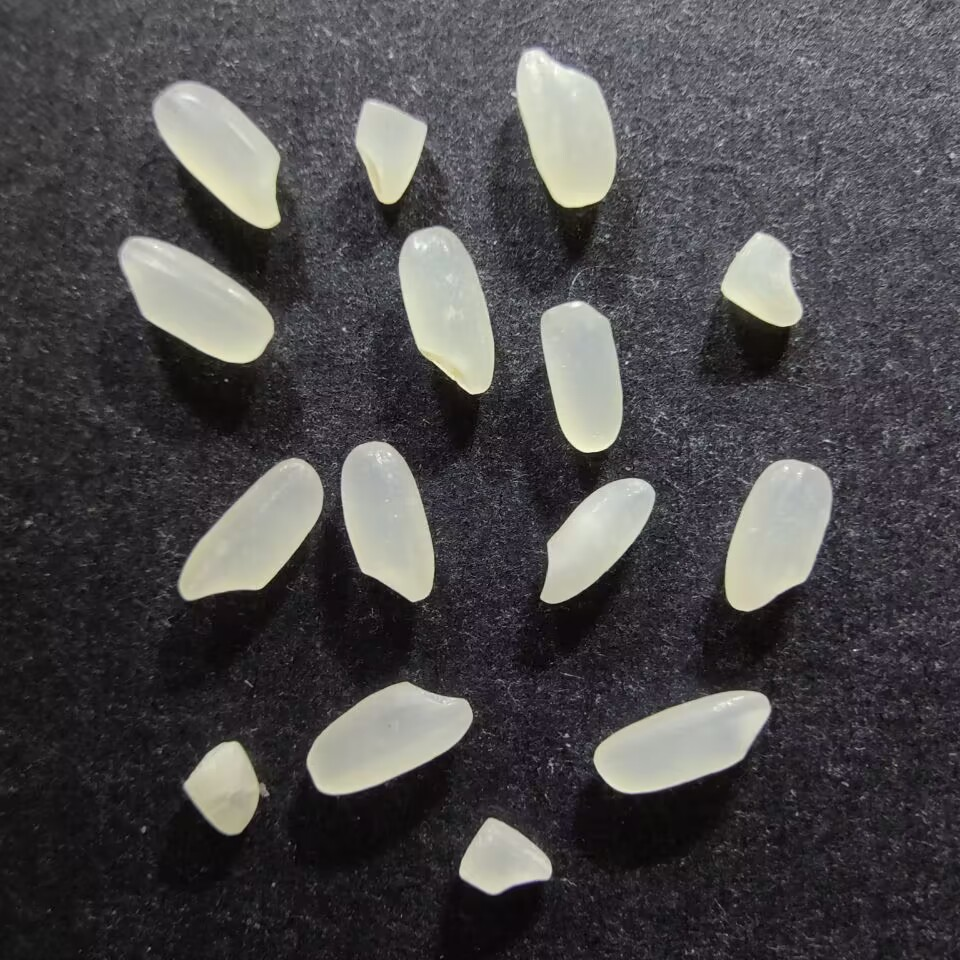broken: (352, 92, 428, 206), (720, 229, 804, 328), (181, 737, 261, 839), (456, 816, 554, 897)
rice: (173, 455, 326, 602), (116, 235, 275, 365), (151, 79, 284, 231), (304, 678, 472, 796), (591, 687, 772, 795), (395, 224, 496, 396), (515, 45, 620, 209), (722, 458, 832, 613), (338, 439, 436, 602), (538, 475, 656, 607), (537, 299, 625, 453)
